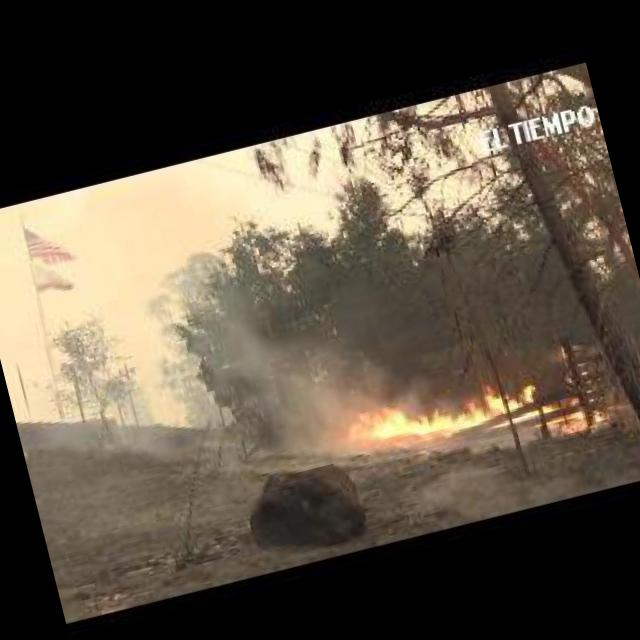fire: (342, 350, 610, 482)
smoke: (193, 279, 408, 443), (18, 428, 41, 458)
